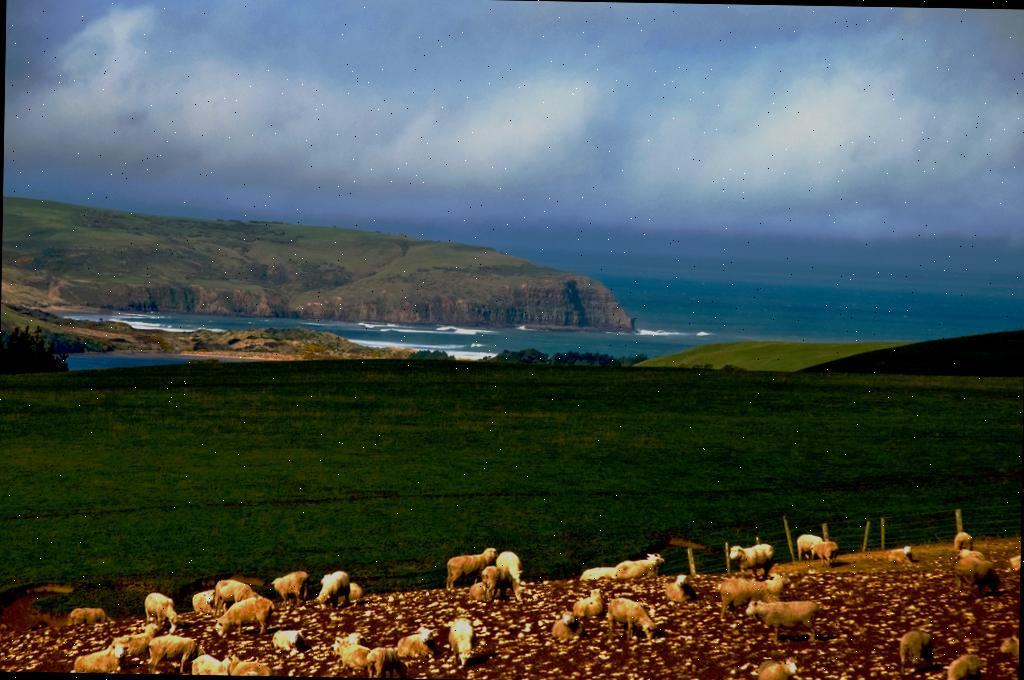Sheep: (742, 594, 818, 646), (720, 570, 791, 620), (440, 544, 498, 594), (214, 593, 274, 637), (147, 632, 206, 674), (951, 556, 1006, 600), (442, 618, 480, 670), (72, 642, 130, 674), (726, 544, 780, 578), (143, 590, 182, 635), (313, 568, 352, 611), (114, 620, 160, 654), (613, 552, 666, 581), (569, 584, 608, 622), (547, 610, 585, 648), (269, 570, 309, 606), (330, 634, 370, 670), (394, 628, 438, 660), (753, 651, 796, 680), (188, 649, 232, 675), (808, 537, 842, 570), (665, 572, 698, 604), (190, 587, 224, 616), (792, 532, 822, 562), (267, 628, 306, 648), (885, 543, 915, 562)
